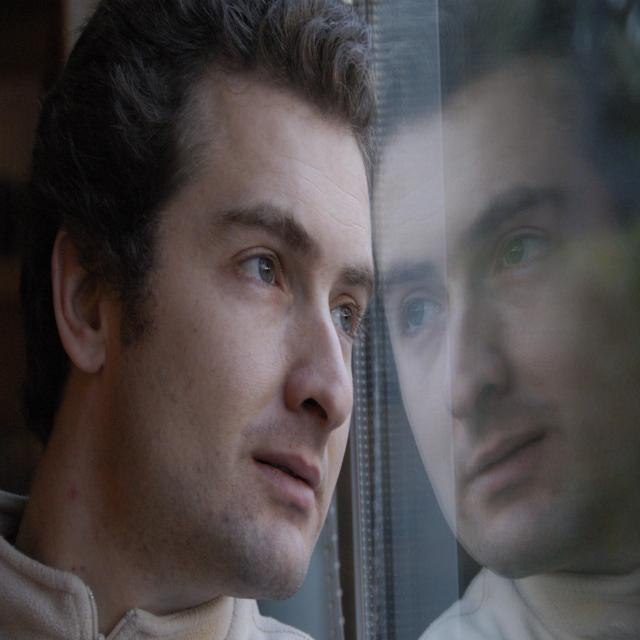no-glass: (228, 247, 362, 345)
